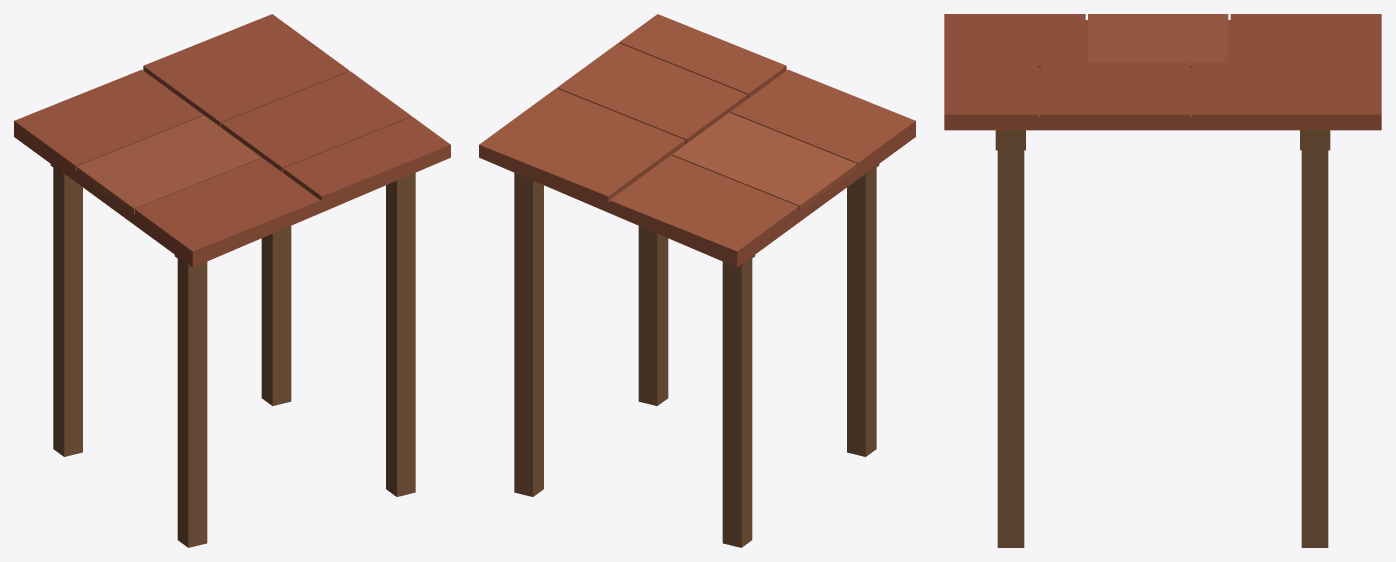
The picture shows the model from 3 angles, left to right: view 1: azimuth 30°, elevation 25°; view 2: azimuth 150°, elevation 25°; view 3: azimuth 270°, elevation 25°; orthographic projection. The views are drawn at different scales.
Parts seen in each view (by area): view 1: village-entry-canopy-01; view 2: village-entry-canopy-01; view 3: village-entry-canopy-01.
Boxes of the visible parts, bbox=[...] form: village-entry-canopy-01: bbox=[14, 14, 450, 547]; village-entry-canopy-01: bbox=[479, 14, 915, 547]; village-entry-canopy-01: bbox=[944, 14, 1381, 547].
Size of the model in its own units: 1.92 by 2.56 by 2.3.
